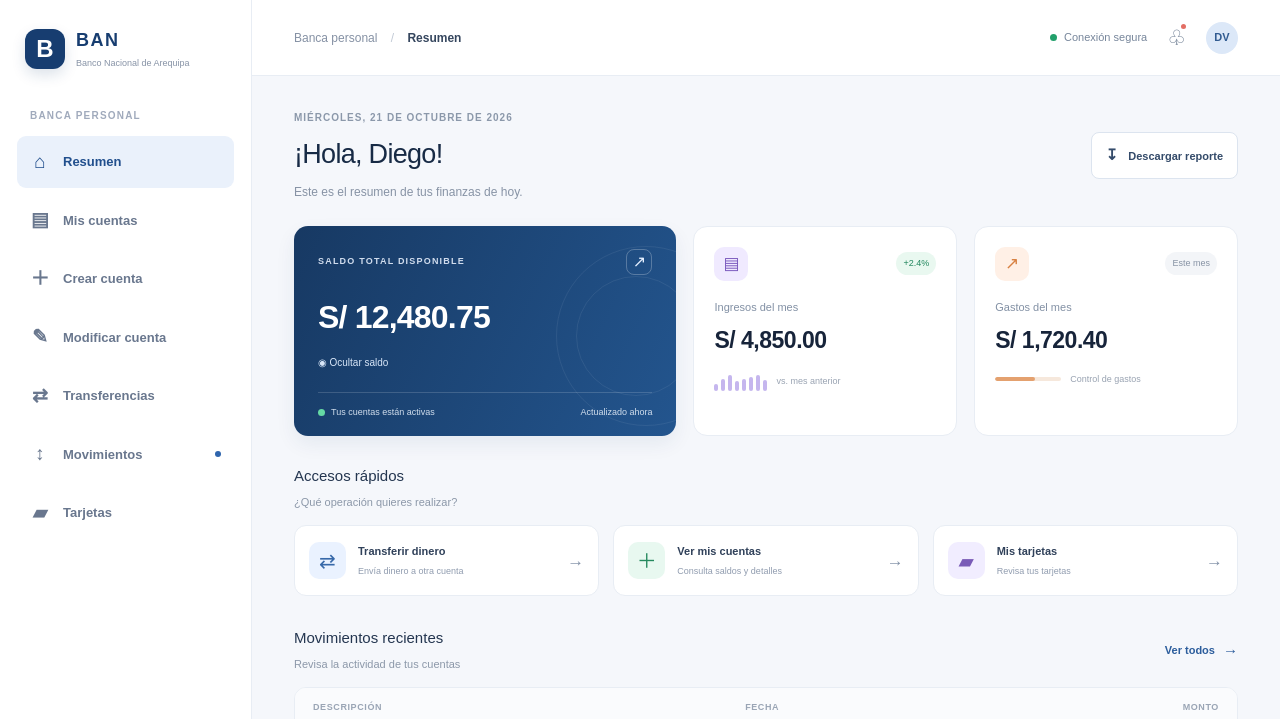
it: Transferencias › CP-13 Rechaza monto inválido (0)
Click the button "⇄ Transferencias".
click(126, 396)  # box [17,370,234,422]
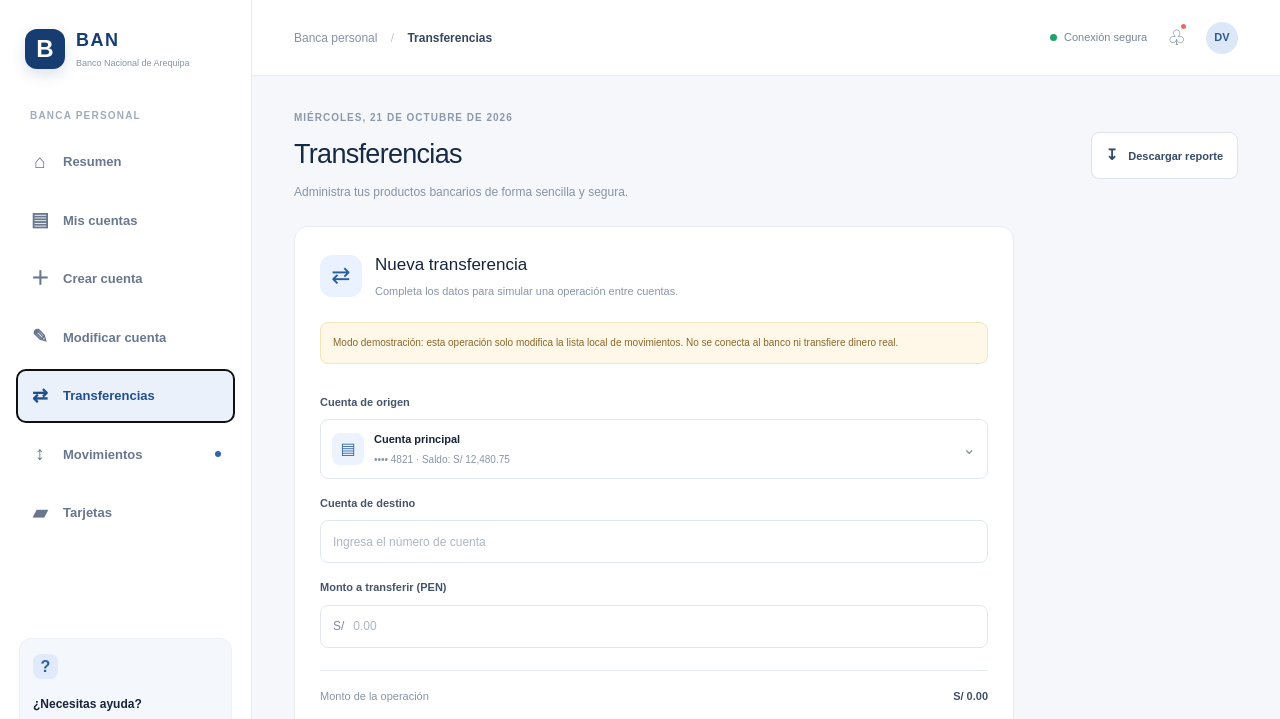
Type "123456789" into the field labelled "Cuenta de destino".
click(654, 542); type("123456789")  # box [320,520,988,563]
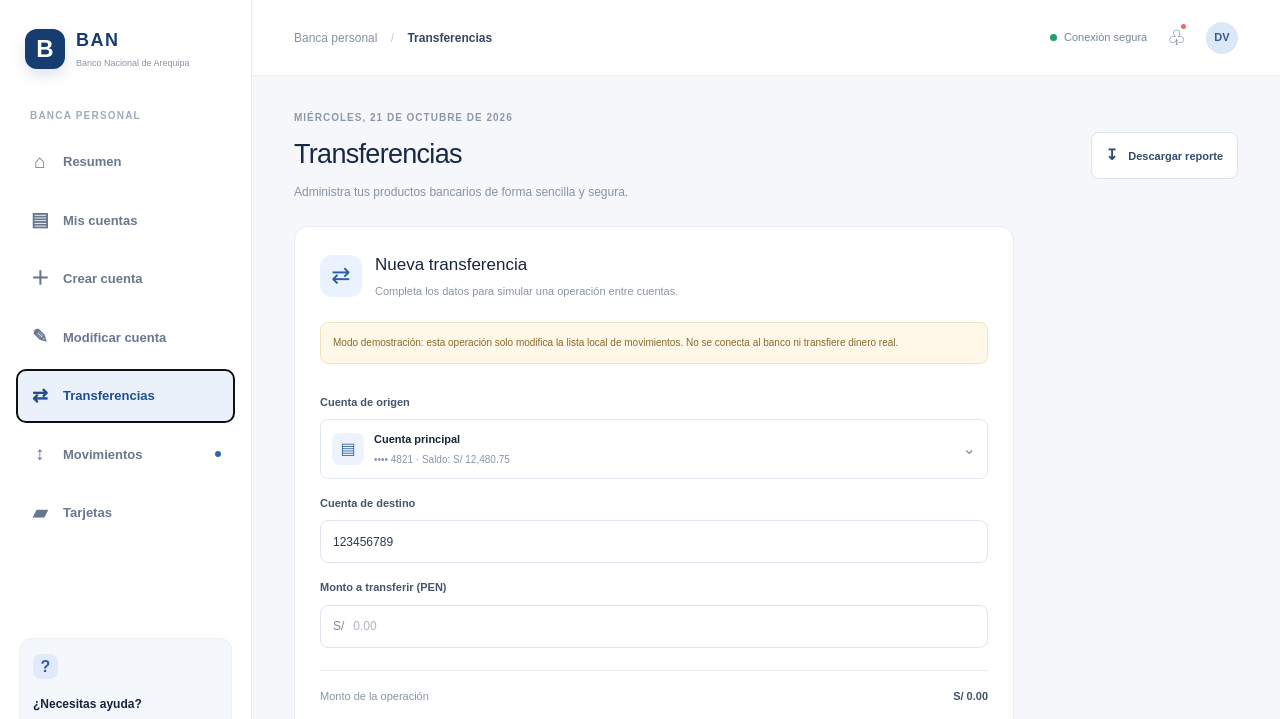
Type "0" into the number field labelled "Monto a transferir (PEN)".
click(664, 626); type("0")  # box [353,606,975,646]
(page scrolled)
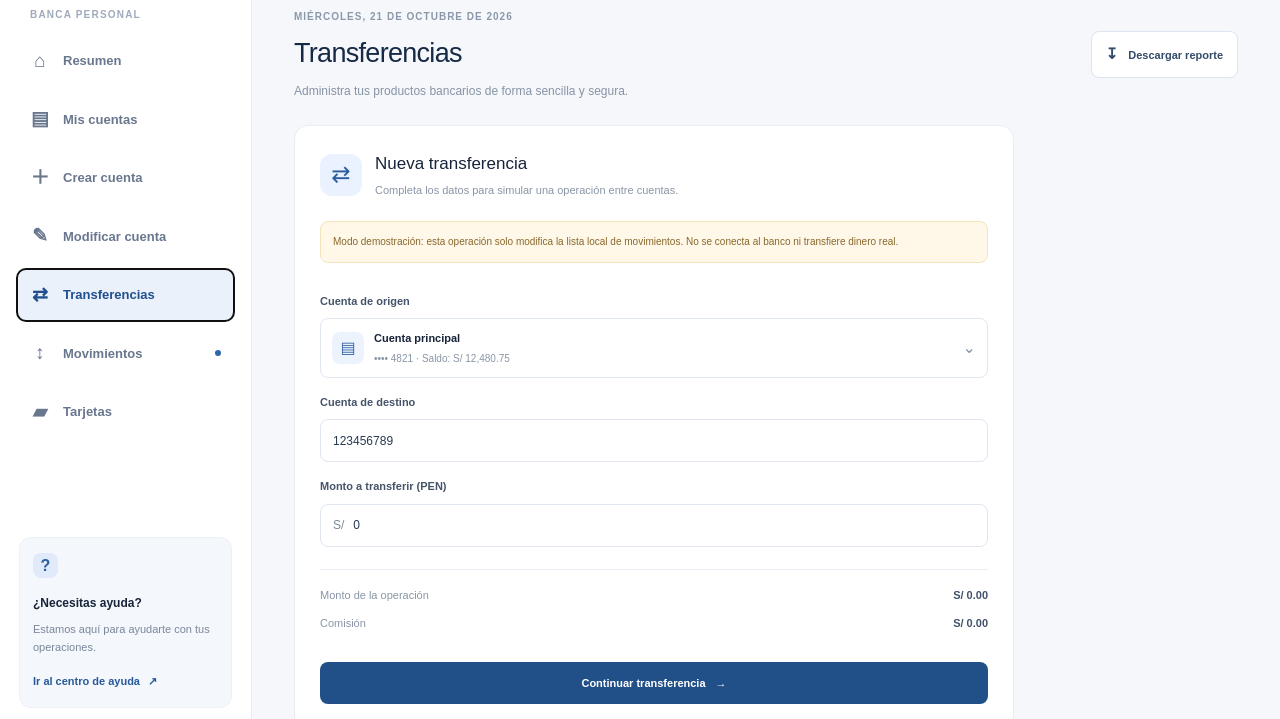
Submit the form named "Continuar transferencia", box [320,286,988,704]
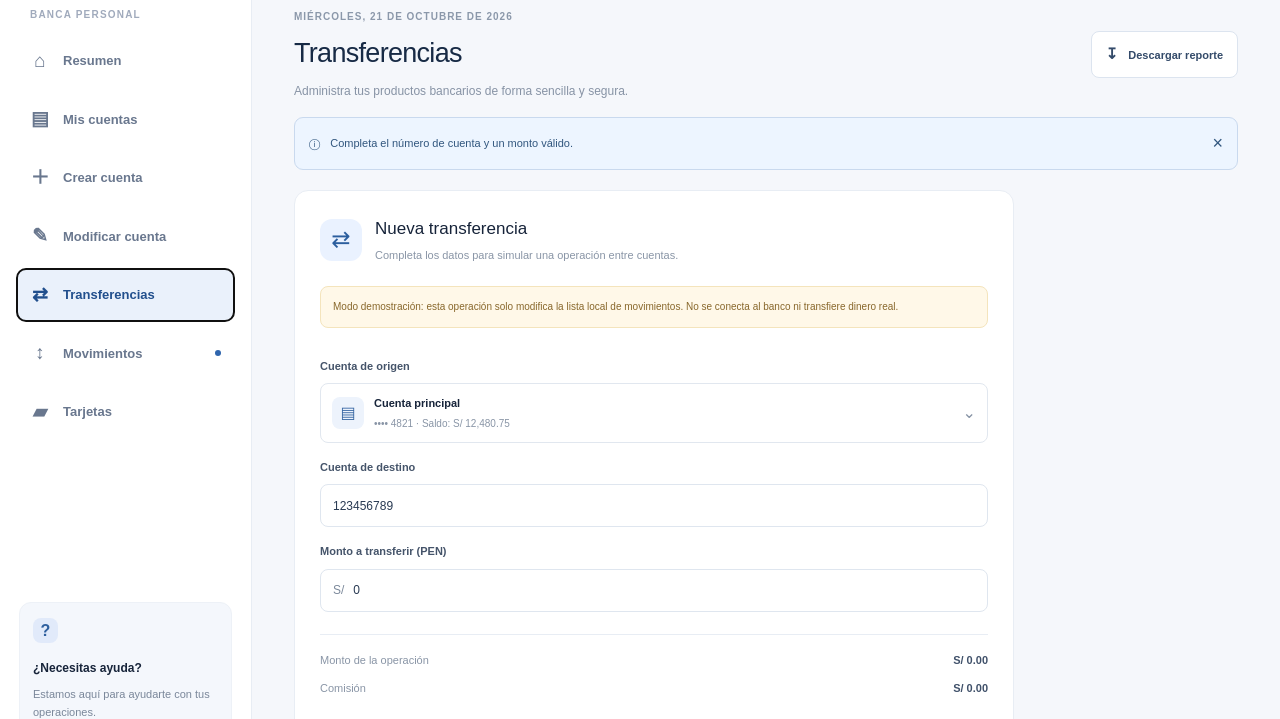
Expected: the message shows "Completa el número de cuenta y un monto válido.", [330,137,573,149]
